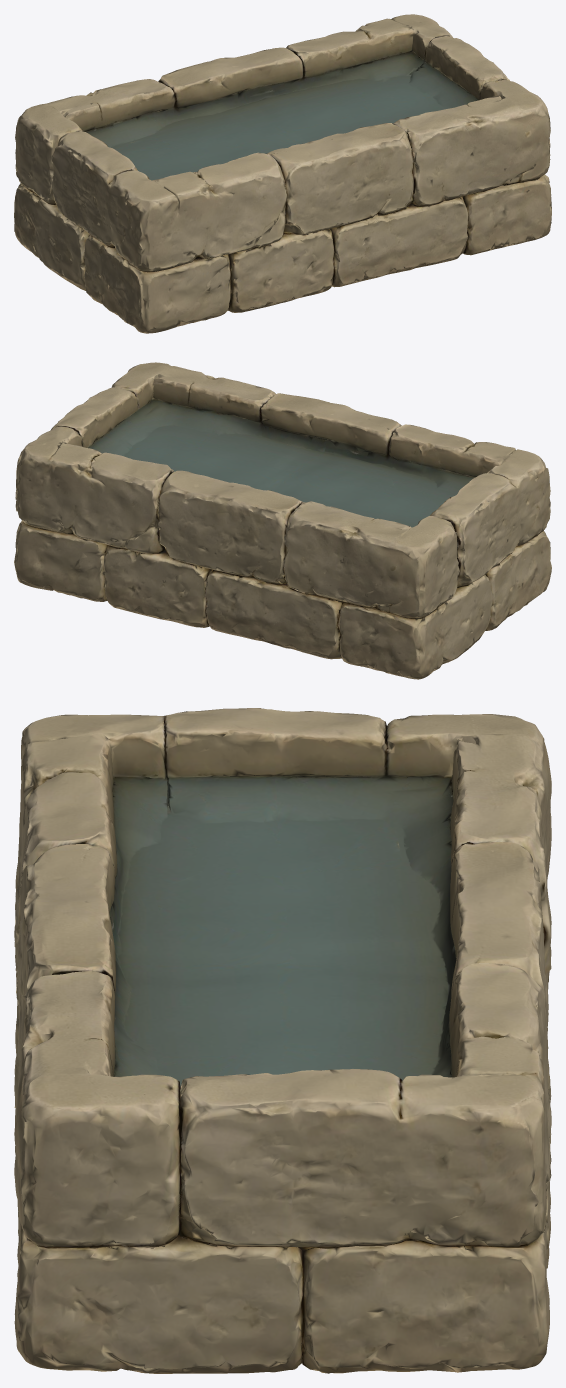
File: camp_water_trough_game.glb
The picture shows the model from 3 angles, top to bottom: view 1: azimuth 30°, elevation 25°; view 2: azimuth 150°, elevation 25°; view 3: azimuth 270°, elevation 25°; orthographic projection. The views are drawn at different scales.
Visible parts, largest first — view 1: tripo_node_5629b475-d331-462b-ad74-d1b71368198f; view 2: tripo_node_5629b475-d331-462b-ad74-d1b71368198f; view 3: tripo_node_5629b475-d331-462b-ad74-d1b71368198f.
Part boxes in pixels (bbox=[...]): tripo_node_5629b475-d331-462b-ad74-d1b71368198f: bbox=[14, 14, 551, 333]; tripo_node_5629b475-d331-462b-ad74-d1b71368198f: bbox=[14, 362, 551, 679]; tripo_node_5629b475-d331-462b-ad74-d1b71368198f: bbox=[14, 708, 551, 1373].
Size of the model in its own units: 0.9796 by 0.3201 by 0.5498.
Materials: 1 (1 with a texture image).
